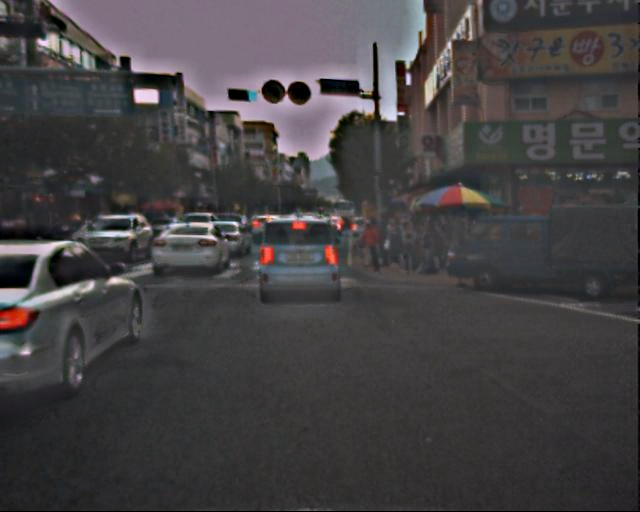person: (365, 211, 448, 271)
